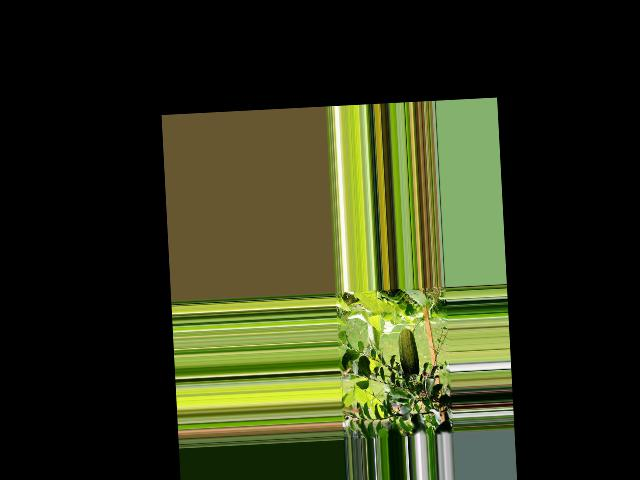cucumber: (398, 328, 420, 382)
